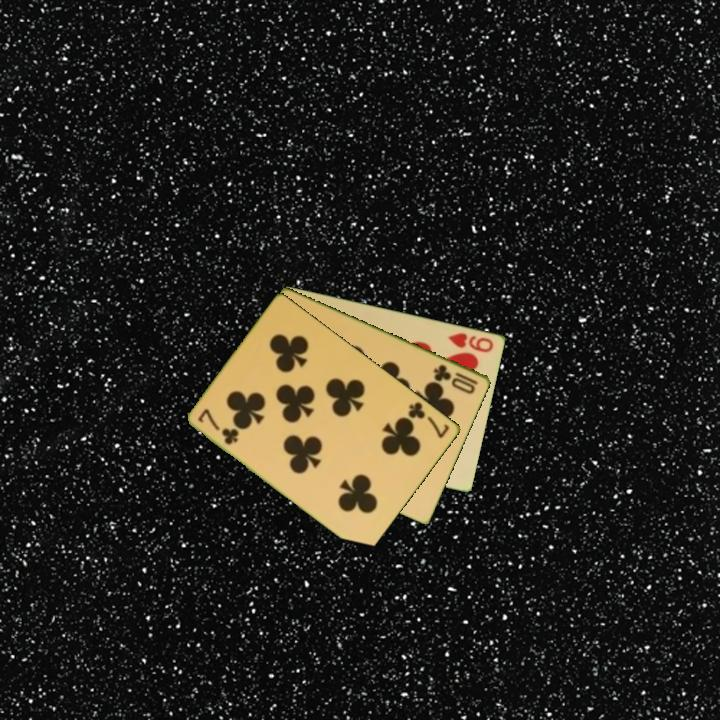10c: (430, 360, 481, 397)
7c: (405, 398, 453, 441), (195, 405, 242, 448)
9h: (445, 329, 497, 355)
